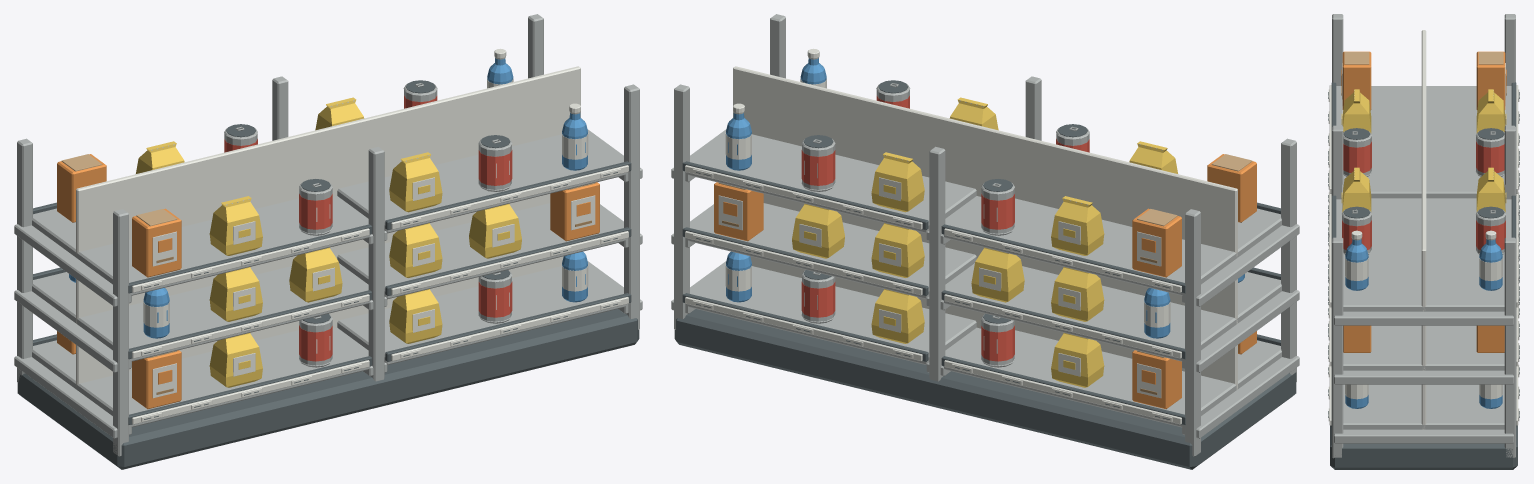
The model's file is Shelf_LowGondola_2Bay.fbx.
The picture shows the model from 3 angles, left to right: view 1: azimuth 30°, elevation 25°; view 2: azimuth 150°, elevation 25°; view 3: azimuth 270°, elevation 25°; orthographic projection. The views are drawn at different scales.
Parts seen in each view (by area): view 1: Shelf_LowGondola_2Bay__LPCXFER, Shelf_LowGondola_2Bay__LowGondola_Back__LPCXFER, Shelf_LowGondola_2Bay__Bay1_Shelf2__LPCXFER, Shelf_LowGondola_2Bay__Bay1_Shelf3__LPCXFER, Shelf_LowGondola_2Bay__Bay1_Shelf1__LPCXFER, Shelf_LowGondola_2Bay__Bay2_Shelf1__LPCXFER, Shelf_LowGondola_2Bay__Bay2_Shelf3__LPCXFER, Shelf_LowGondola_2Bay__Bay2_Shelf2__LPCXFER, LowGondola_Item_0_2_-1_0__LPCXFER, LowGondola_Item_0_0_-1_0__LPCXFER, LowGondola_Item_1_1_-1_2__LPCXFER, LowGondola_Item_1_2_-1_0__LPCXFER (+20 smaller); view 2: Shelf_LowGondola_2Bay__LPCXFER, Shelf_LowGondola_2Bay__LowGondola_Back__LPCXFER, Shelf_LowGondola_2Bay__Bay1_Shelf2__LPCXFER, Shelf_LowGondola_2Bay__Bay1_Shelf3__LPCXFER, Shelf_LowGondola_2Bay__Bay1_Shelf1__LPCXFER, Shelf_LowGondola_2Bay__Bay2_Shelf1__LPCXFER, Shelf_LowGondola_2Bay__Bay2_Shelf3__LPCXFER, Shelf_LowGondola_2Bay__Bay2_Shelf2__LPCXFER, LowGondola_Item_0_2_1_0__LPCXFER, LowGondola_Item_0_0_1_0__LPCXFER, LowGondola_Item_1_1_1_2__LPCXFER, LowGondola_Item_1_2_1_0__LPCXFER (+20 smaller); view 3: Shelf_LowGondola_2Bay__LPCXFER, Shelf_LowGondola_2Bay__Bay2_Shelf3__LPCXFER, Shelf_LowGondola_2Bay__Bay1_Shelf3__LPCXFER, Shelf_LowGondola_2Bay__Bay2_Shelf1__LPCXFER, Shelf_LowGondola_2Bay__Bay2_Shelf2__LPCXFER, Shelf_LowGondola_2Bay__LowGondola_Back__LPCXFER, LowGondola_Item_0_2_-1_0__LPCXFER, LowGondola_Item_0_2_1_0__LPCXFER, LowGondola_Item_0_2_-1_2__LPCXFER, LowGondola_Item_0_2_1_2__LPCXFER, LowGondola_Item_1_2_-1_2__LPCXFER, LowGondola_Item_1_2_1_2__LPCXFER (+10 smaller).
Boxes of the visible parts, <box> form: Shelf_LowGondola_2Bay__LPCXFER: <box>14,14,642,469</box>; Shelf_LowGondola_2Bay__LowGondola_Back__LPCXFER: <box>76,66,580,386</box>; Shelf_LowGondola_2Bay__Bay1_Shelf2__LPCXFER: <box>32,266,372,361</box>; Shelf_LowGondola_2Bay__Bay1_Shelf3__LPCXFER: <box>32,198,372,295</box>; Shelf_LowGondola_2Bay__Bay1_Shelf1__LPCXFER: <box>32,330,372,427</box>; Shelf_LowGondola_2Bay__Bay2_Shelf1__LPCXFER: <box>337,266,631,364</box>; Shelf_LowGondola_2Bay__Bay2_Shelf3__LPCXFER: <box>337,134,631,233</box>; Shelf_LowGondola_2Bay__Bay2_Shelf2__LPCXFER: <box>337,203,631,299</box>; LowGondola_Item_0_2_-1_0__LPCXFER: <box>132,208,181,277</box>; LowGondola_Item_0_0_-1_0__LPCXFER: <box>132,350,181,409</box>; LowGondola_Item_1_1_-1_2__LPCXFER: <box>550,182,599,241</box>; LowGondola_Item_1_2_-1_0__LPCXFER: <box>389,152,442,212</box>; Shelf_LowGondola_2Bay__LPCXFER: <box>671,14,1299,469</box>; Shelf_LowGondola_2Bay__LowGondola_Back__LPCXFER: <box>733,66,1237,389</box>; Shelf_LowGondola_2Bay__Bay1_Shelf2__LPCXFER: <box>941,266,1281,361</box>; Shelf_LowGondola_2Bay__Bay1_Shelf3__LPCXFER: <box>941,198,1281,295</box>; Shelf_LowGondola_2Bay__Bay1_Shelf1__LPCXFER: <box>941,330,1281,427</box>; Shelf_LowGondola_2Bay__Bay2_Shelf1__LPCXFER: <box>682,266,976,364</box>; Shelf_LowGondola_2Bay__Bay2_Shelf3__LPCXFER: <box>682,134,976,233</box>; Shelf_LowGondola_2Bay__Bay2_Shelf2__LPCXFER: <box>682,203,976,299</box>; LowGondola_Item_0_2_1_0__LPCXFER: <box>1132,208,1181,277</box>; LowGondola_Item_0_0_1_0__LPCXFER: <box>1132,350,1181,409</box>; LowGondola_Item_1_1_1_2__LPCXFER: <box>714,182,763,241</box>; LowGondola_Item_1_2_1_0__LPCXFER: <box>871,152,924,212</box>; Shelf_LowGondola_2Bay__LPCXFER: <box>1330,14,1517,469</box>; Shelf_LowGondola_2Bay__Bay2_Shelf3__LPCXFER: <box>1328,195,1519,311</box>; Shelf_LowGondola_2Bay__Bay1_Shelf3__LPCXFER: <box>1328,82,1519,198</box>; Shelf_LowGondola_2Bay__Bay2_Shelf1__LPCXFER: <box>1328,321,1519,429</box>; Shelf_LowGondola_2Bay__Bay2_Shelf2__LPCXFER: <box>1328,262,1519,370</box>; Shelf_LowGondola_2Bay__LowGondola_Back__LPCXFER: <box>1421,30,1426,429</box>; LowGondola_Item_0_2_-1_0__LPCXFER: <box>1341,51,1371,109</box>; LowGondola_Item_0_2_1_0__LPCXFER: <box>1476,51,1506,109</box>; LowGondola_Item_0_2_-1_2__LPCXFER: <box>1343,128,1371,176</box>; LowGondola_Item_0_2_1_2__LPCXFER: <box>1476,128,1504,176</box>; LowGondola_Item_1_2_-1_2__LPCXFER: <box>1345,230,1368,290</box>; LowGondola_Item_1_2_1_2__LPCXFER: <box>1479,230,1502,290</box>.
Bounding box in the file's own units: 286 × 133 × 100.
